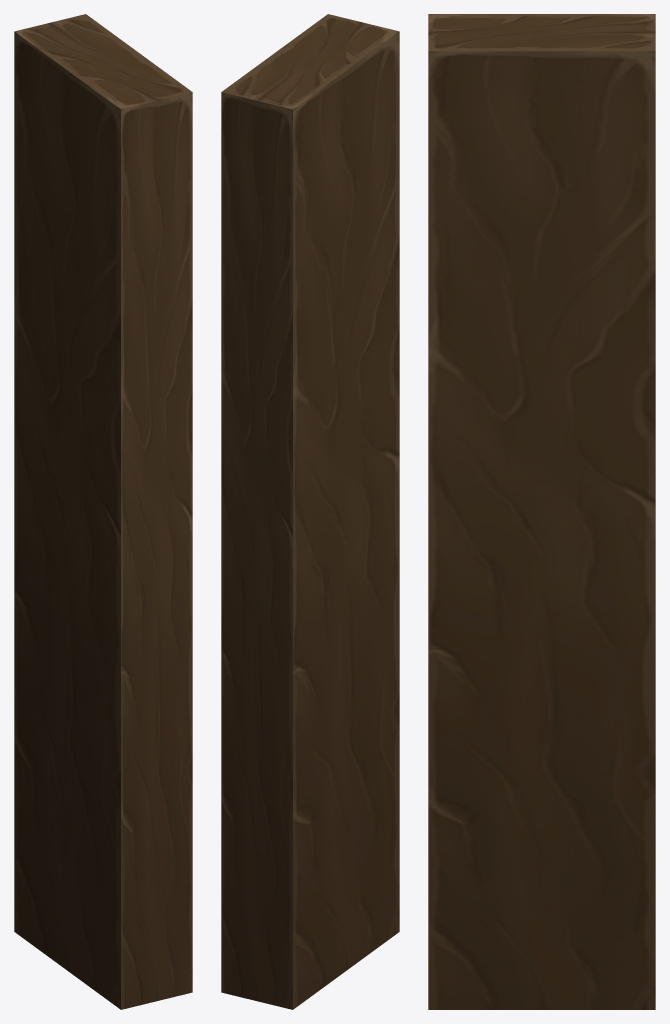
The model's file is Pillar_4_1.FBX.
3 renders of one model, left to right at view 1: azimuth 30°, elevation 25°; view 2: azimuth 150°, elevation 25°; view 3: azimuth 270°, elevation 25°, orthographic. The views are drawn at different scales.
Visible parts, largest first — view 1: Pillar_4_1; view 2: Pillar_4_1; view 3: Pillar_4_1.
Boxes of the visible parts, x1,y1,x2,y2 form: Pillar_4_1: [14, 14, 192, 1009]; Pillar_4_1: [221, 14, 399, 1009]; Pillar_4_1: [428, 14, 655, 1009].
Bounding box in the file's own units: 300 × 3600 × 774.
